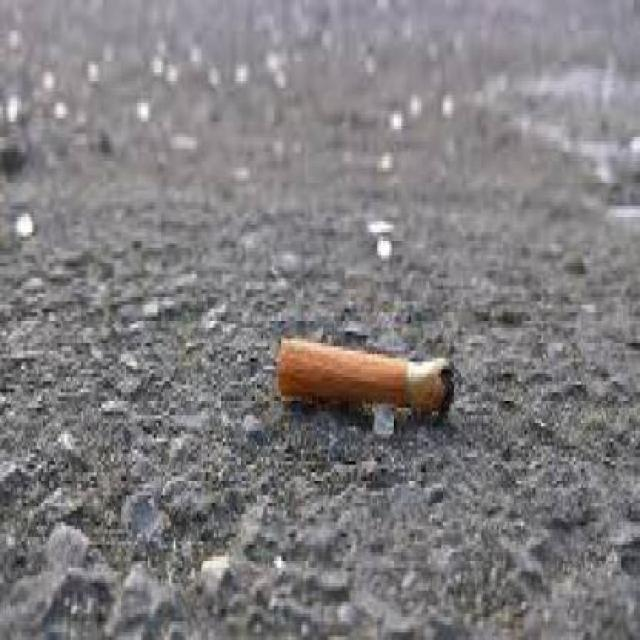cigarette: (264, 297, 476, 446)
